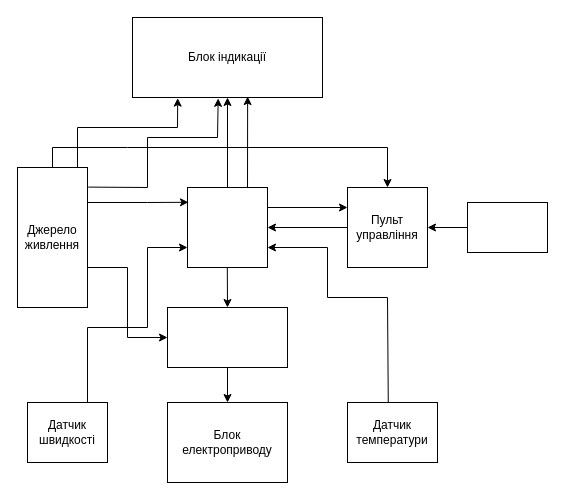
Image size: 565x500. Some labels were removed from this diagram. Each missing label, with the centre of its shape:
Блок клавіатури: the point at 507,227
Живлення електроприводу: the point at 227,337
ПЛК: the point at 227,227
